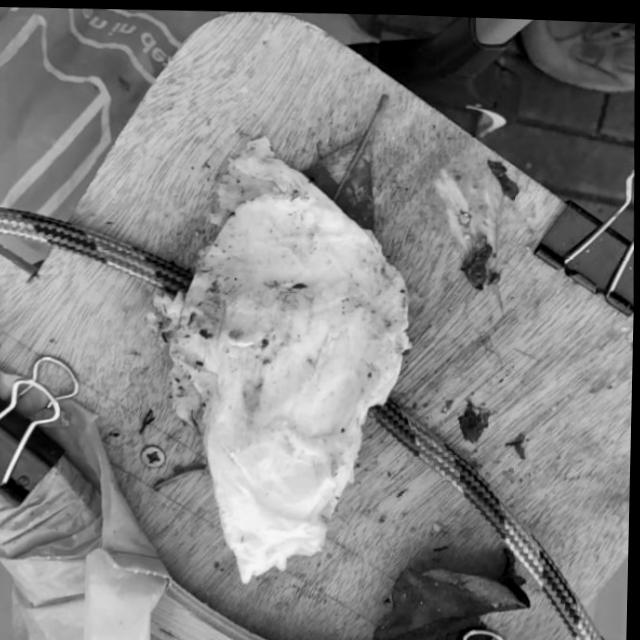Paper: (139, 125, 424, 590)
